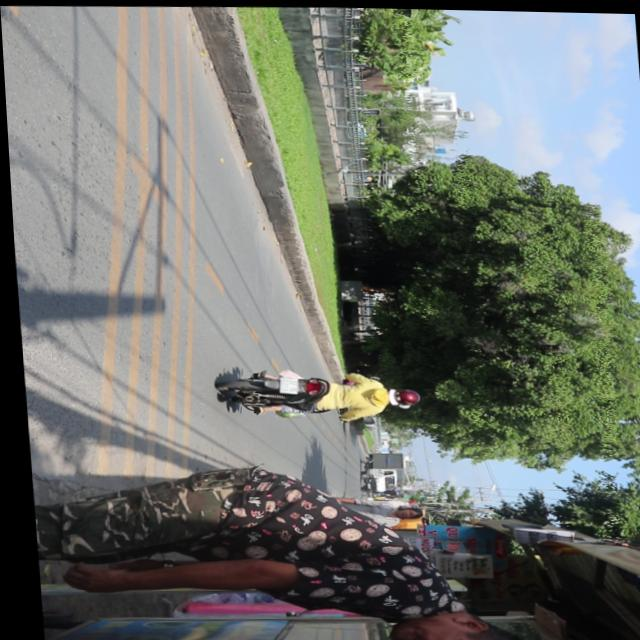helmet: (384, 384, 416, 404)
licenseplate: (211, 360, 417, 422)
nohelmet: (273, 375, 294, 392)
